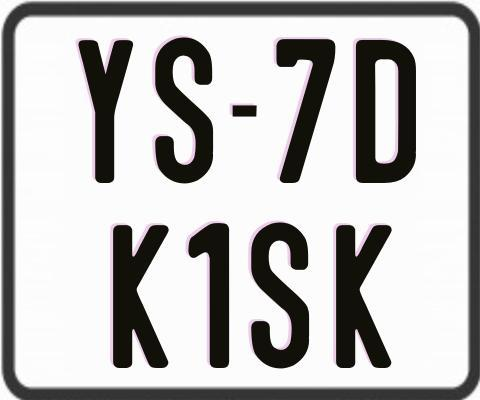1: (186, 221, 232, 366)
7: (274, 38, 339, 188)
D: (354, 39, 420, 188)
K: (336, 223, 398, 367), (112, 222, 173, 365)
S: (152, 37, 216, 183), (249, 221, 307, 369)
Y: (77, 37, 138, 185)
